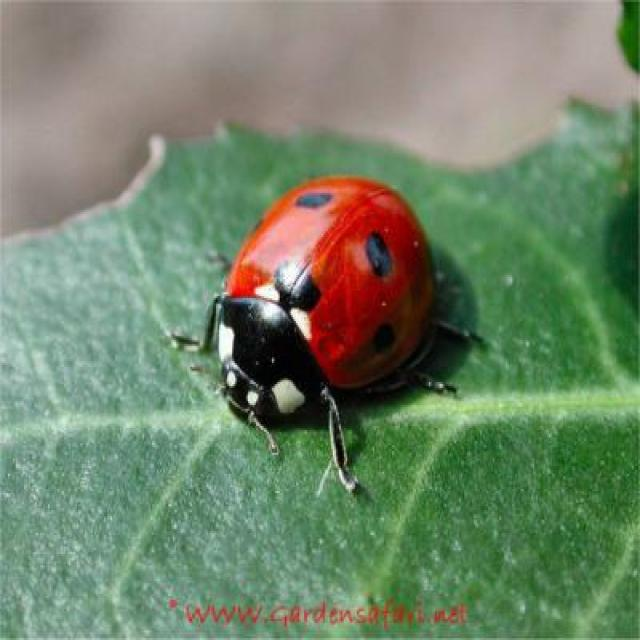antennae: (189, 352, 285, 466)
body: (218, 175, 437, 416)
insect: (168, 174, 483, 495)
legs: (413, 282, 488, 396), (308, 380, 374, 495), (165, 283, 221, 367)
mouthpart: (217, 368, 262, 431)
wings: (225, 175, 436, 386)
